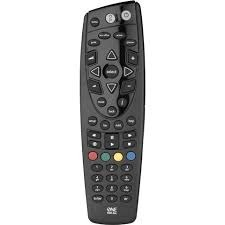remote control: (82, 8, 145, 225)
